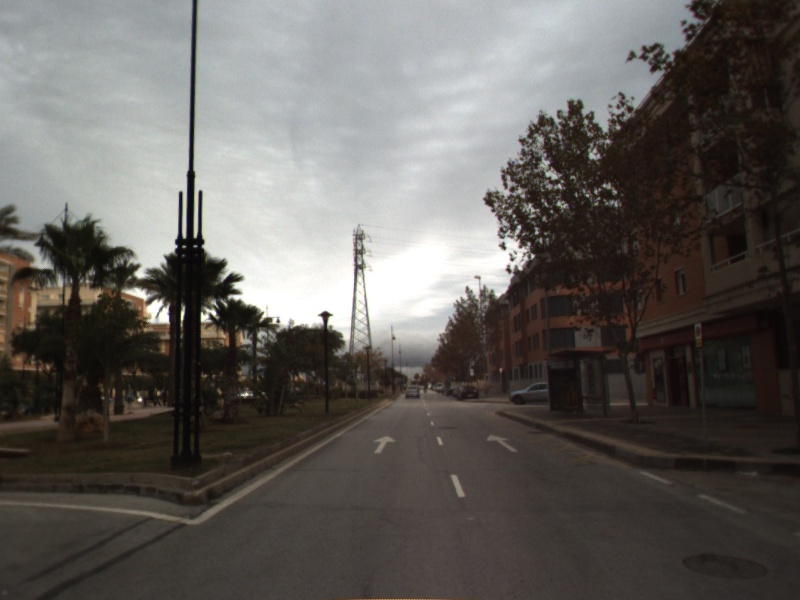STRAIGHT: (484, 432, 521, 454), (371, 433, 398, 456)
